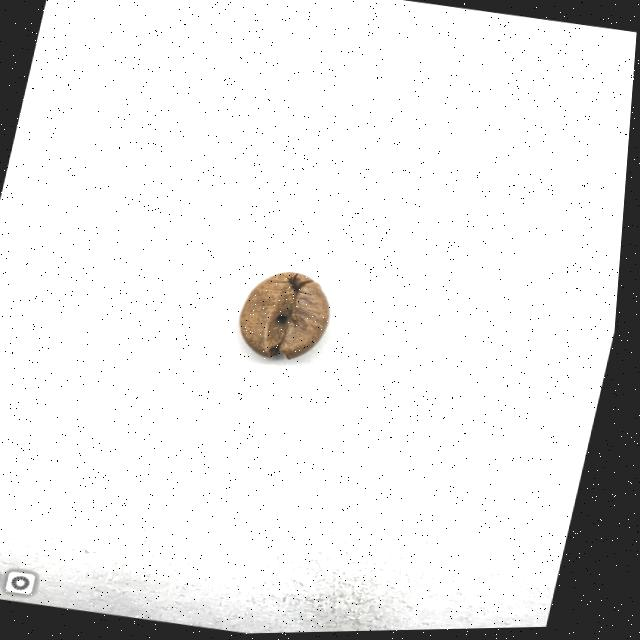Insect damage: (236, 266, 345, 367)
